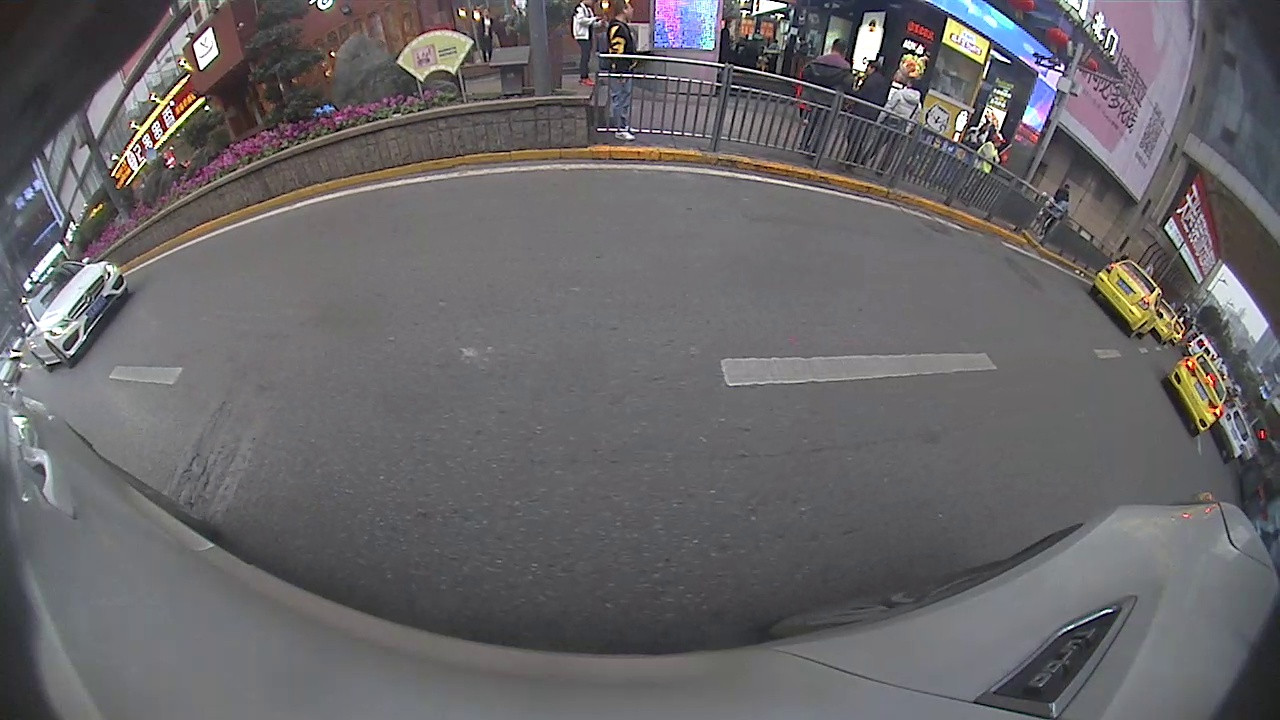car: (17, 258, 125, 373), (1088, 258, 1166, 338), (1162, 350, 1230, 437)
front: (47, 343, 71, 371)
person: (798, 34, 855, 169), (603, 2, 638, 139)
